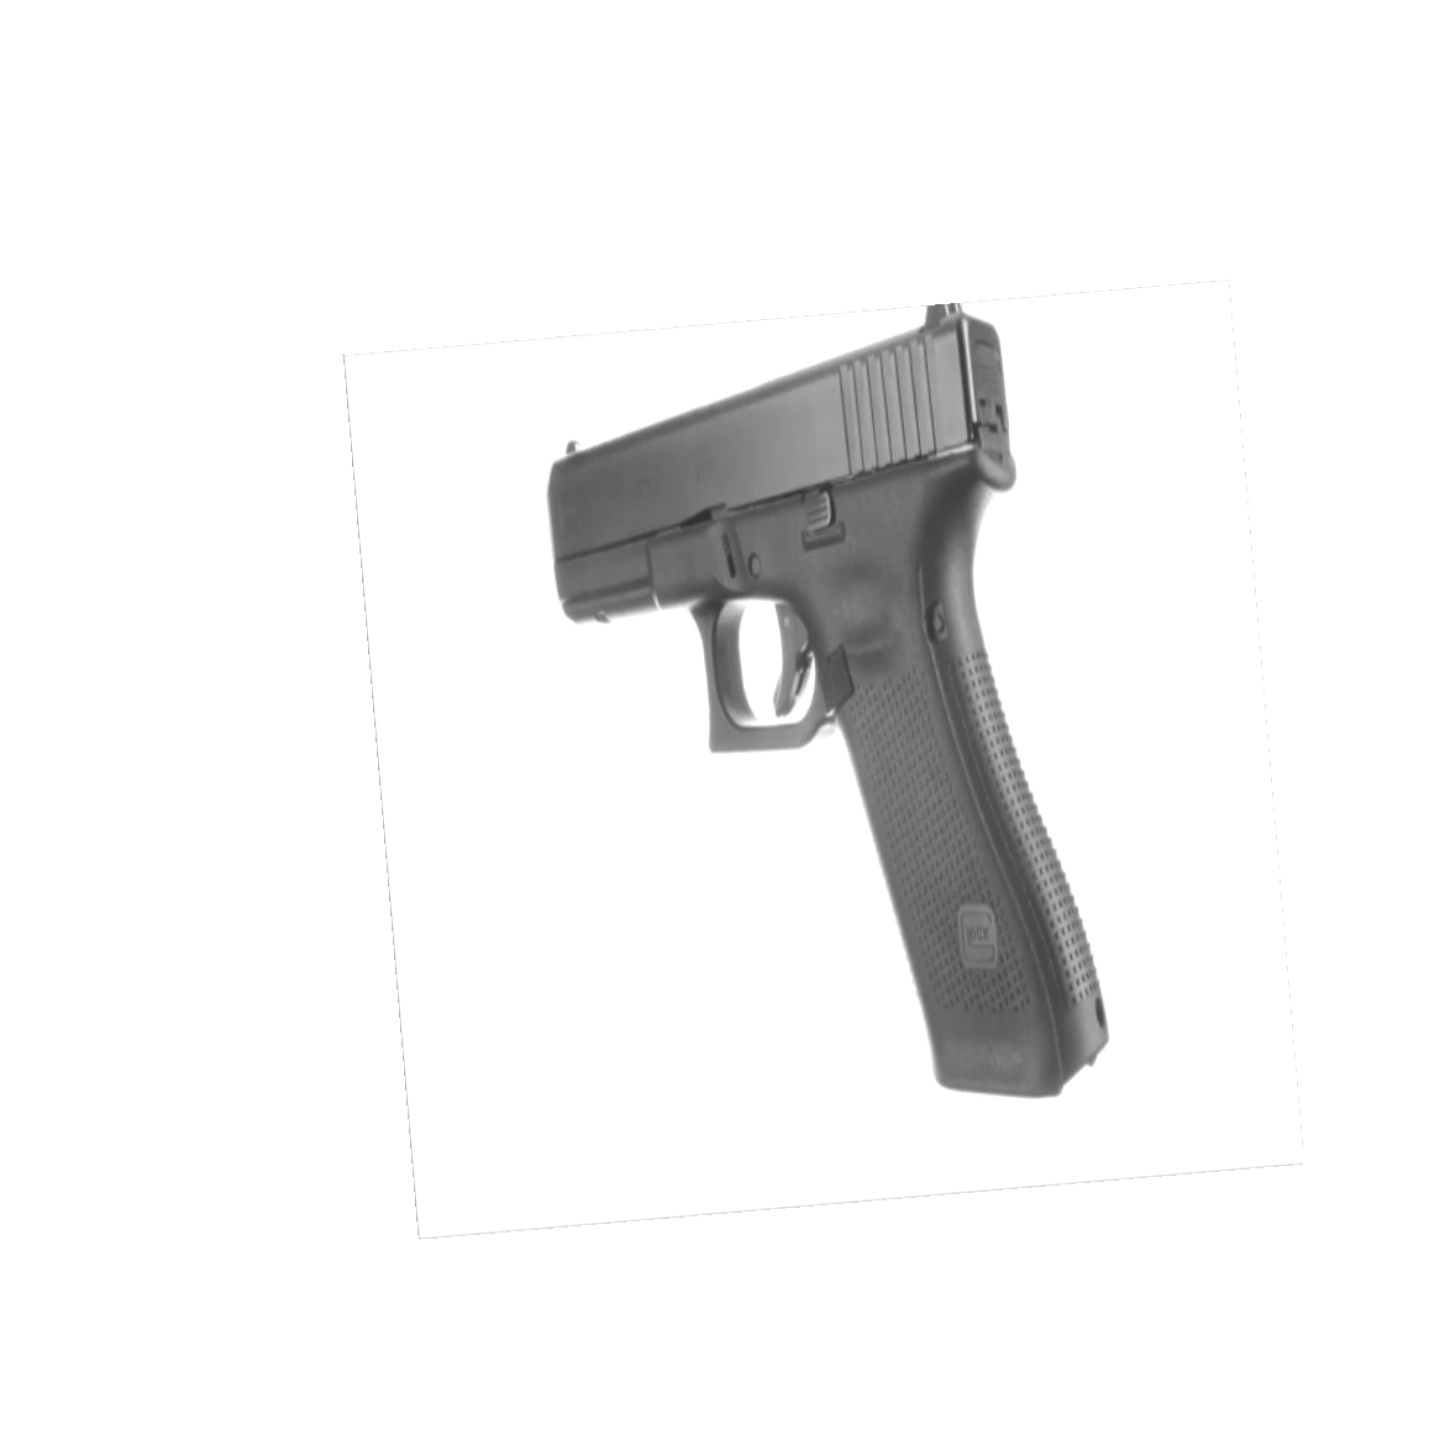gun: (543, 303, 1113, 1097)
